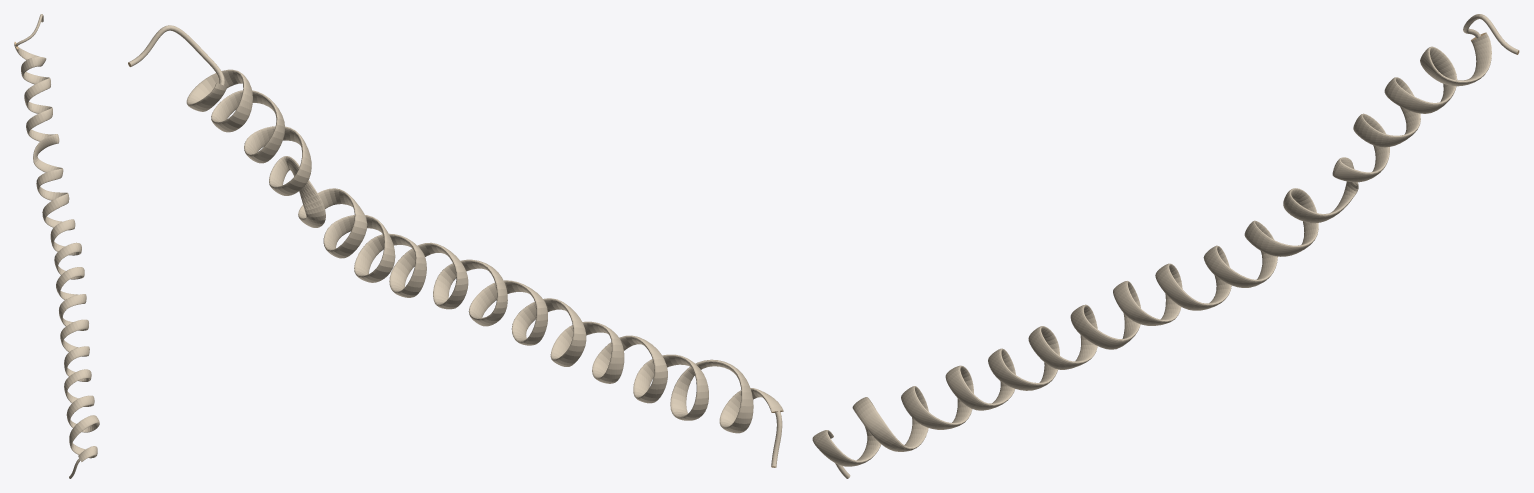
File: rCoilHelixrCoil.dae
3 views of the same model, side by side, from view 1: azimuth 30°, elevation 25°; view 2: azimuth 150°, elevation 25°; view 3: azimuth 270°, elevation 25° (orthographic). The views are drawn at different scales.
Parts seen in each view (by area): view 1: Shape_IndexedTriangleStripSet_060; view 2: Shape_IndexedTriangleStripSet_060; view 3: Shape_IndexedTriangleStripSet_060.
Part boxes in pixels (left/top/right/bottom): Shape_IndexedTriangleStripSet_060: left=14, top=14, right=99, bottom=478; Shape_IndexedTriangleStripSet_060: left=128, top=25, right=783, bottom=467; Shape_IndexedTriangleStripSet_060: left=812, top=14, right=1519, bottom=478.
Size of the model in its own units: 31.54 by 67.67 by 62.48.
